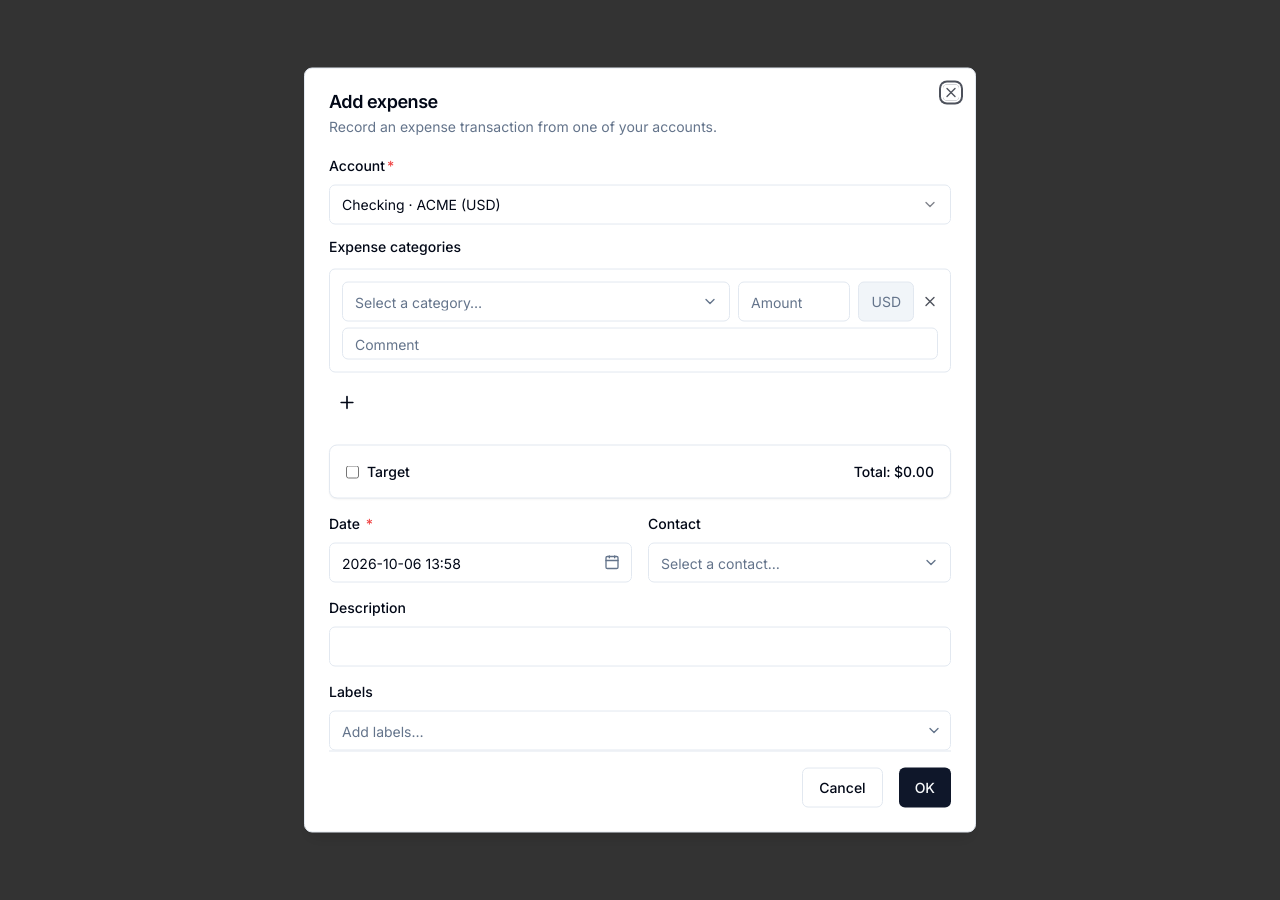
it: CreateExpenseDialog › field error surfaces under the named field
Expected: the dialog "Add expense" is shown, [304,68,976,832]
Expected: the dropdown named "account" is shown, [329,184,951,224]
Click the dropdown labelled "Select a category…" at (536, 302), box [342,282,730,322]
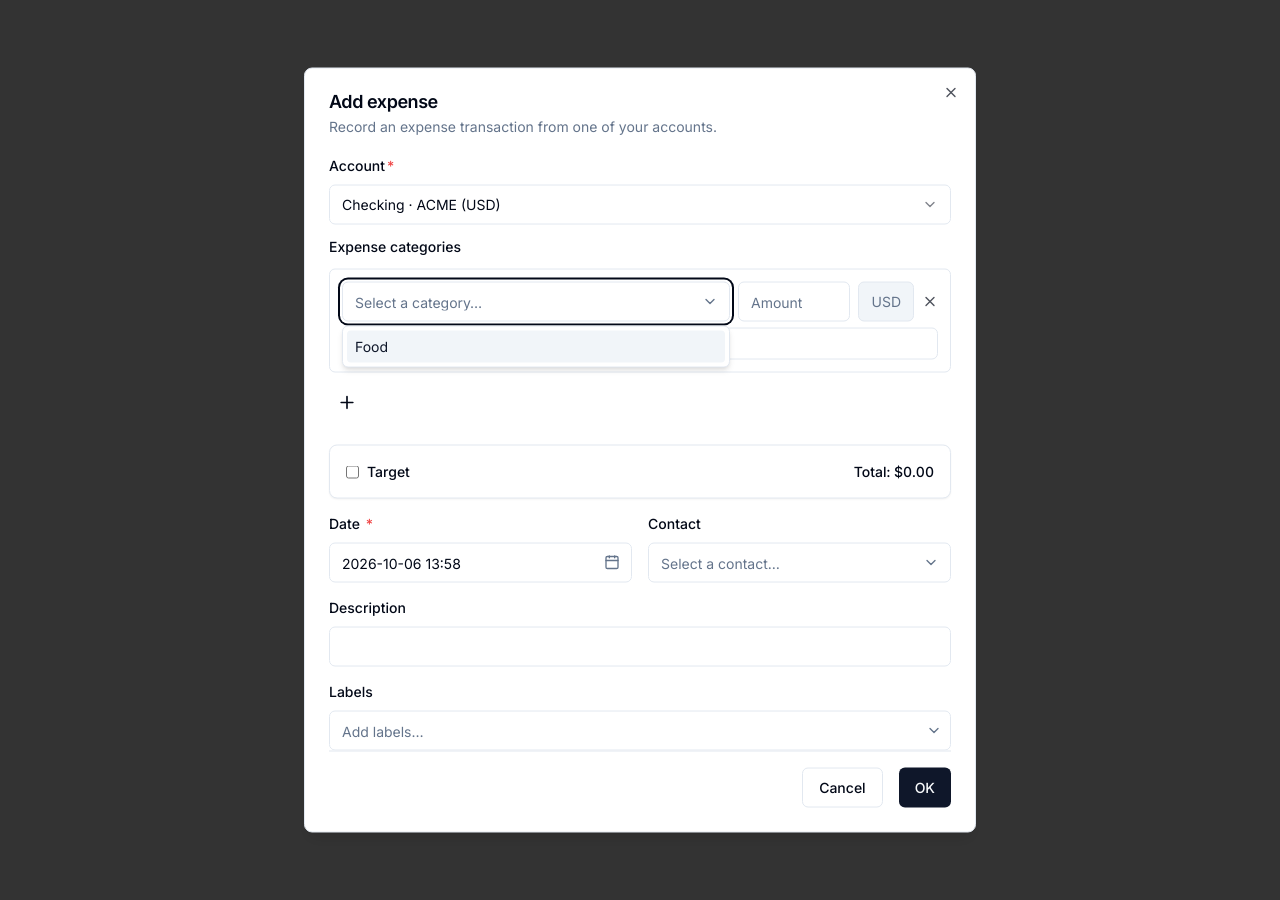
Click the option "Food" at (372, 346), box [347,330,725,362]
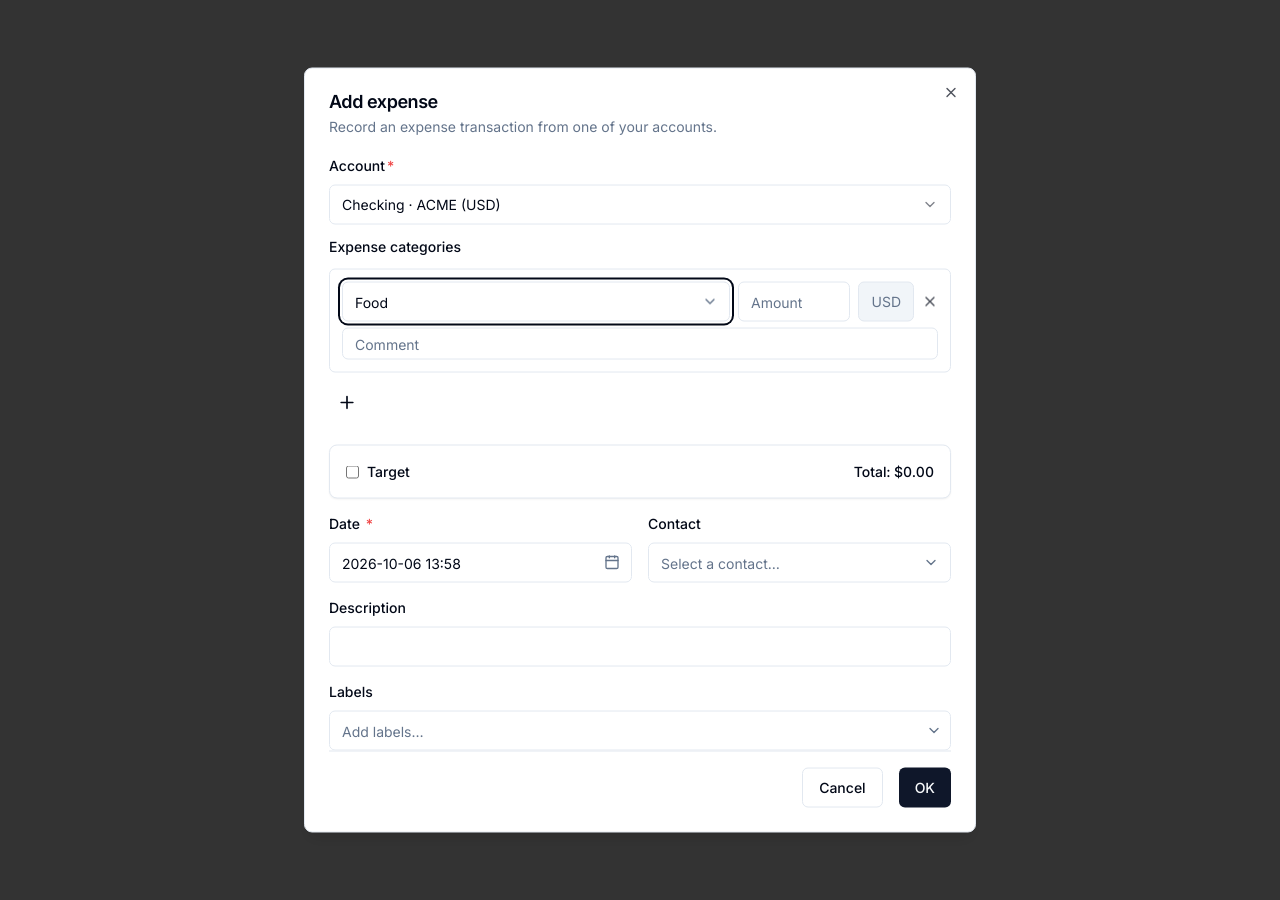
Type "50" into the number field labelled "Amount" at (794, 302), box [738,282,850,322]
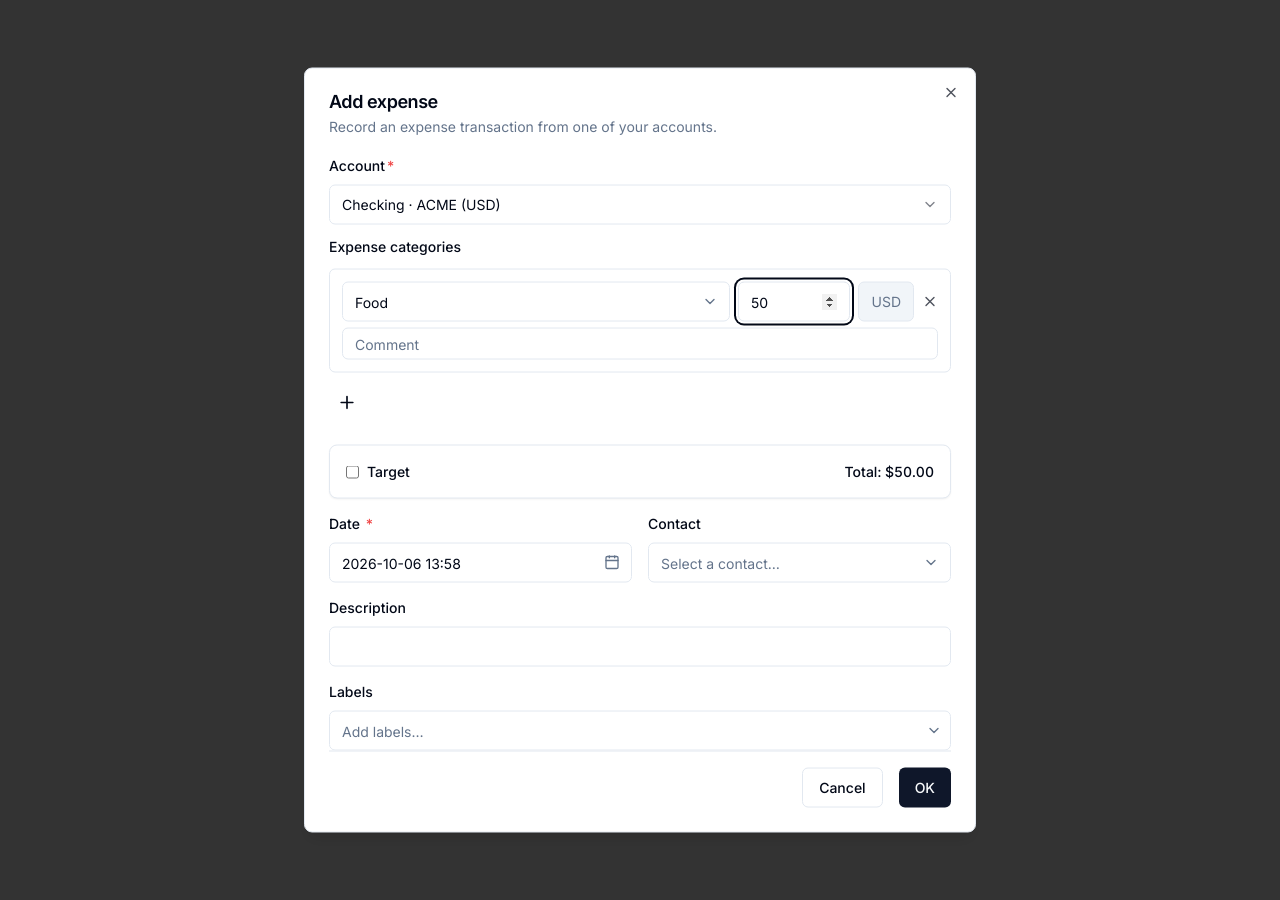
Type "Groceries" into the field labelled "Description" at (640, 646), box [329,626,951,666]
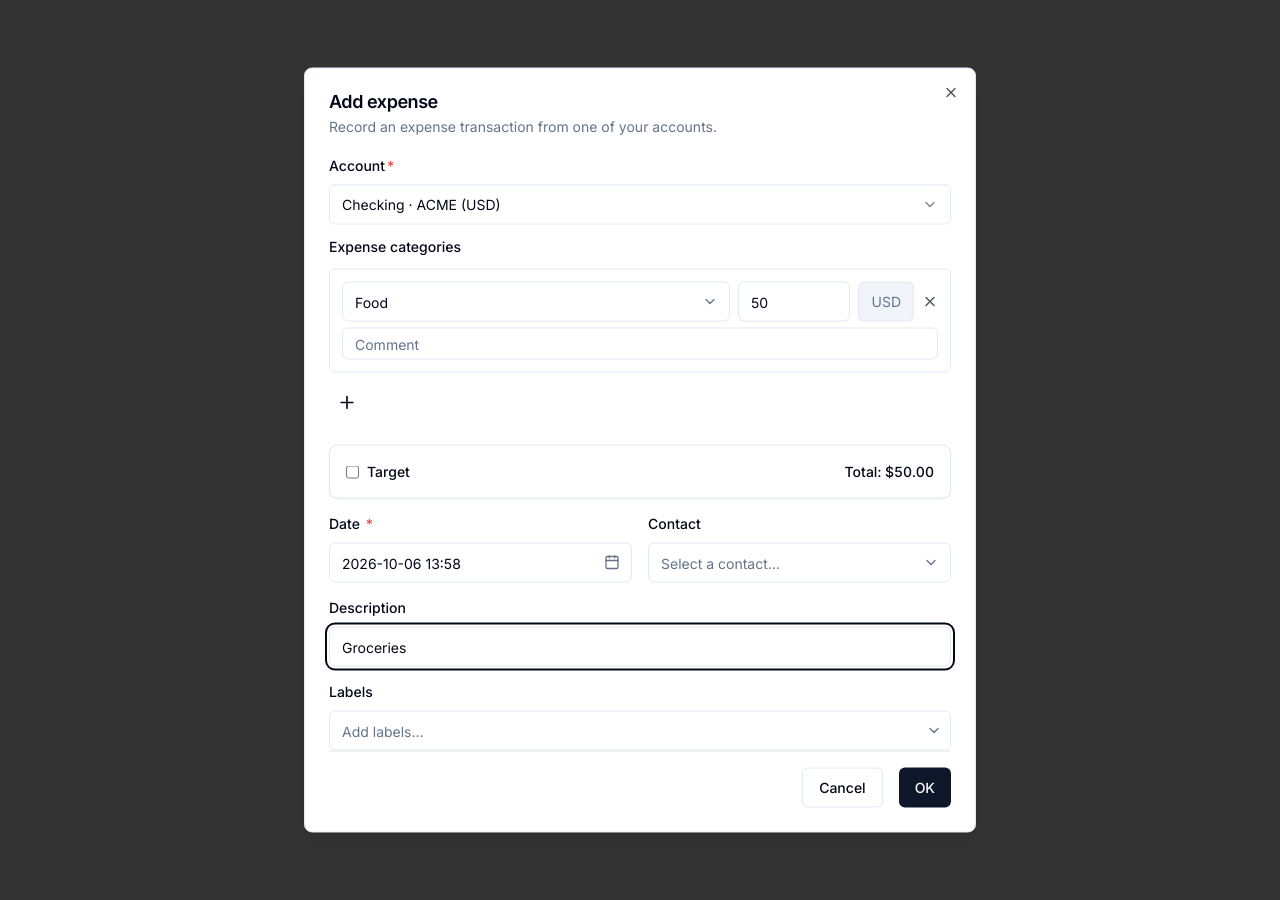
Click the button "OK" at (925, 788), box [899,768,951,808]
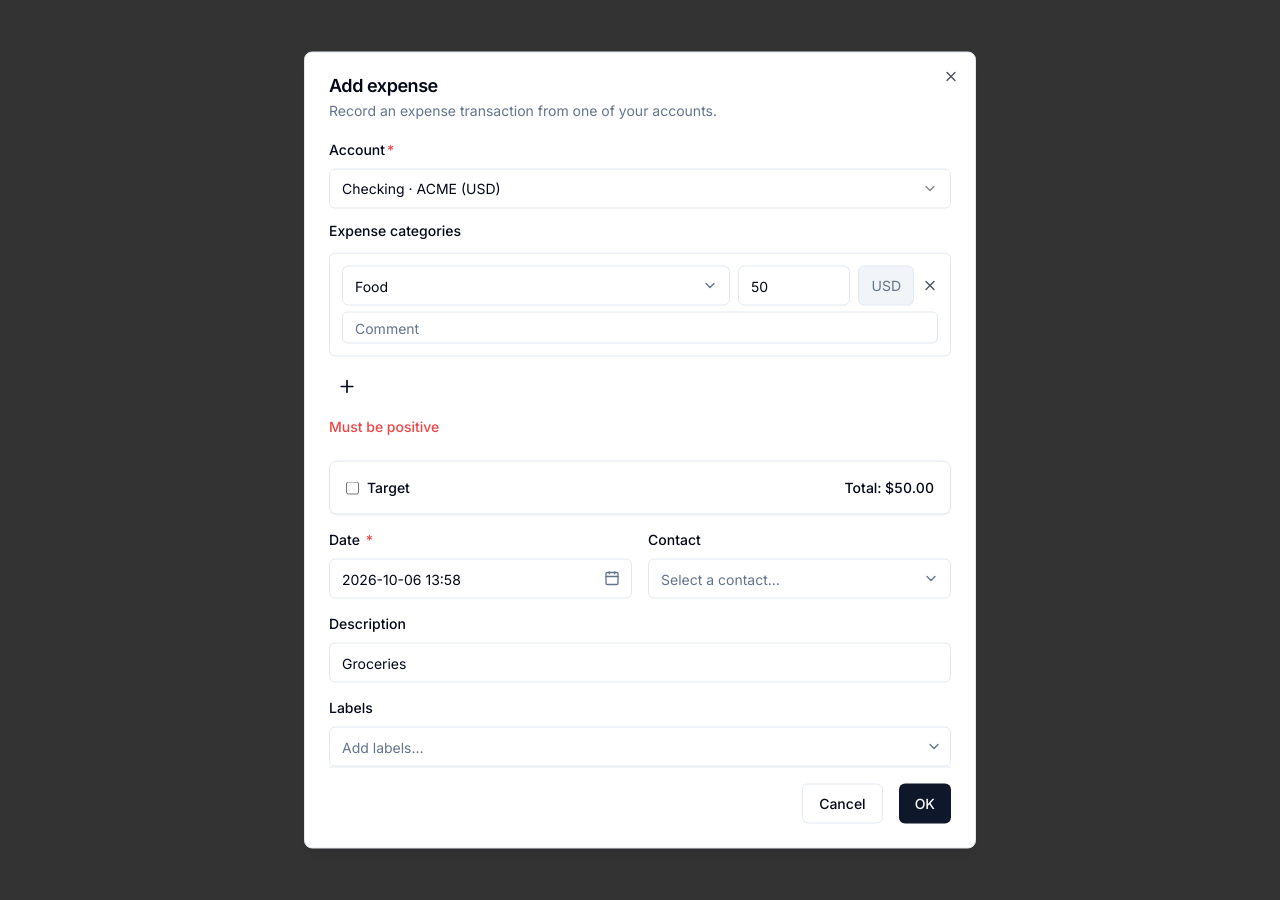
Now the text "Must be positive" is shown, box [329,418,439,434]
